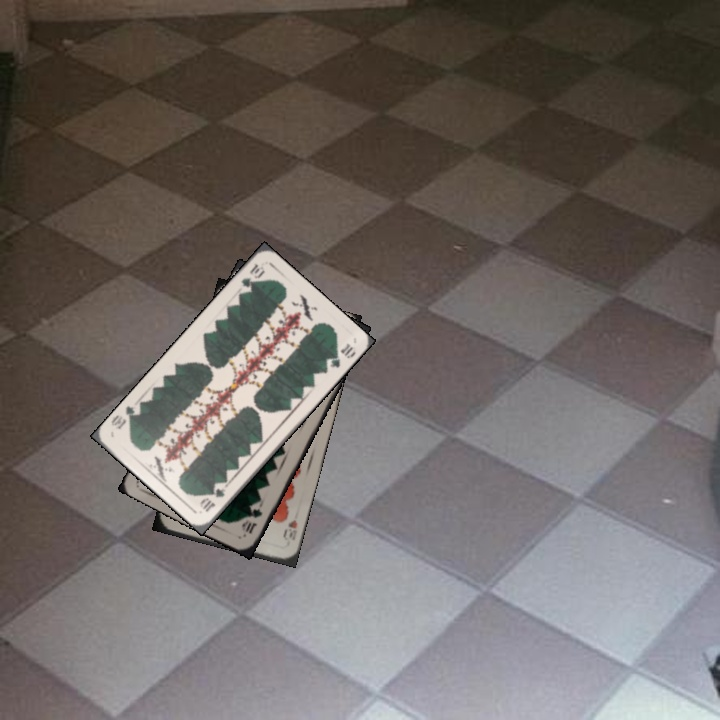G10: (196, 484, 228, 515), (237, 260, 268, 290), (238, 504, 265, 536)
H10: (279, 516, 300, 549)
